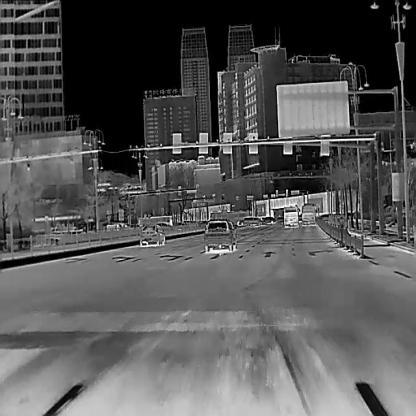car: (203, 218, 236, 251), (209, 210, 249, 225), (139, 224, 165, 246), (136, 214, 173, 228), (283, 205, 299, 228), (301, 202, 316, 225), (243, 216, 263, 225), (155, 222, 172, 229), (263, 216, 276, 224)
